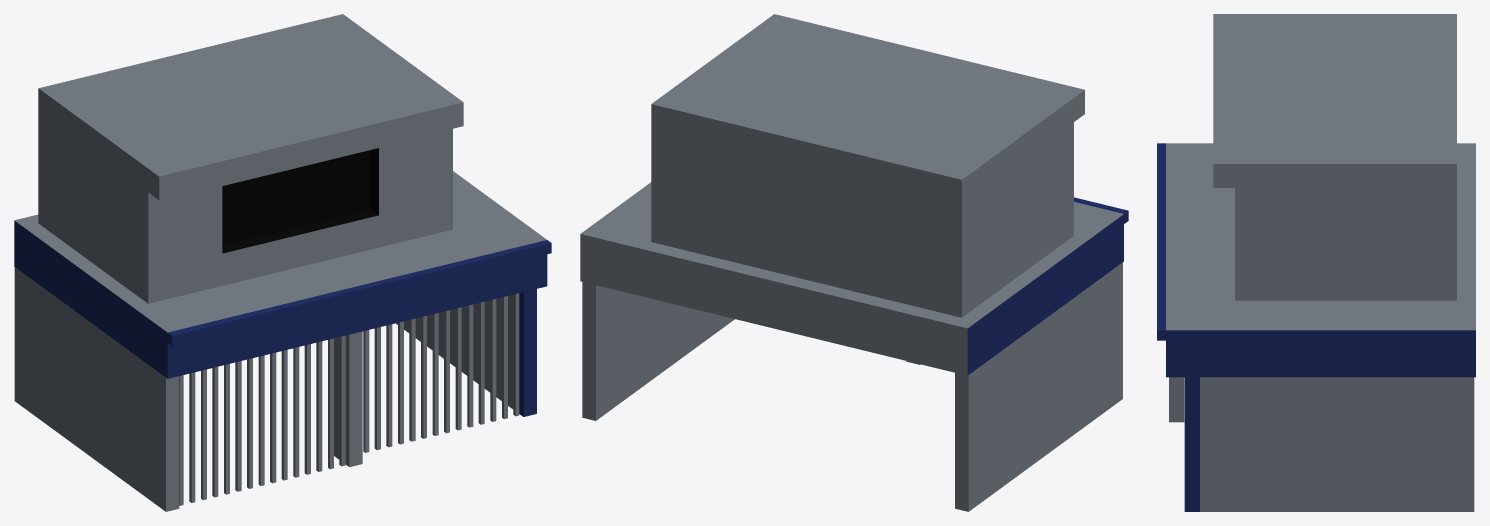
Rendered from loja_32.fbx.
The picture shows the model from 3 angles, left to right: view 1: azimuth 30°, elevation 25°; view 2: azimuth 150°, elevation 25°; view 3: azimuth 270°, elevation 25°; orthographic projection. The views are drawn at different scales.
Parts seen in each view (by area): view 1: Cube; view 2: Cube; view 3: Cube.
Boxes of the visible parts, x1,y1,x2,y2 form: Cube: (14, 14, 551, 511); Cube: (580, 14, 1128, 511); Cube: (1157, 14, 1475, 511).
Size of the model in its own units: 1336 by 1061 by 961.
